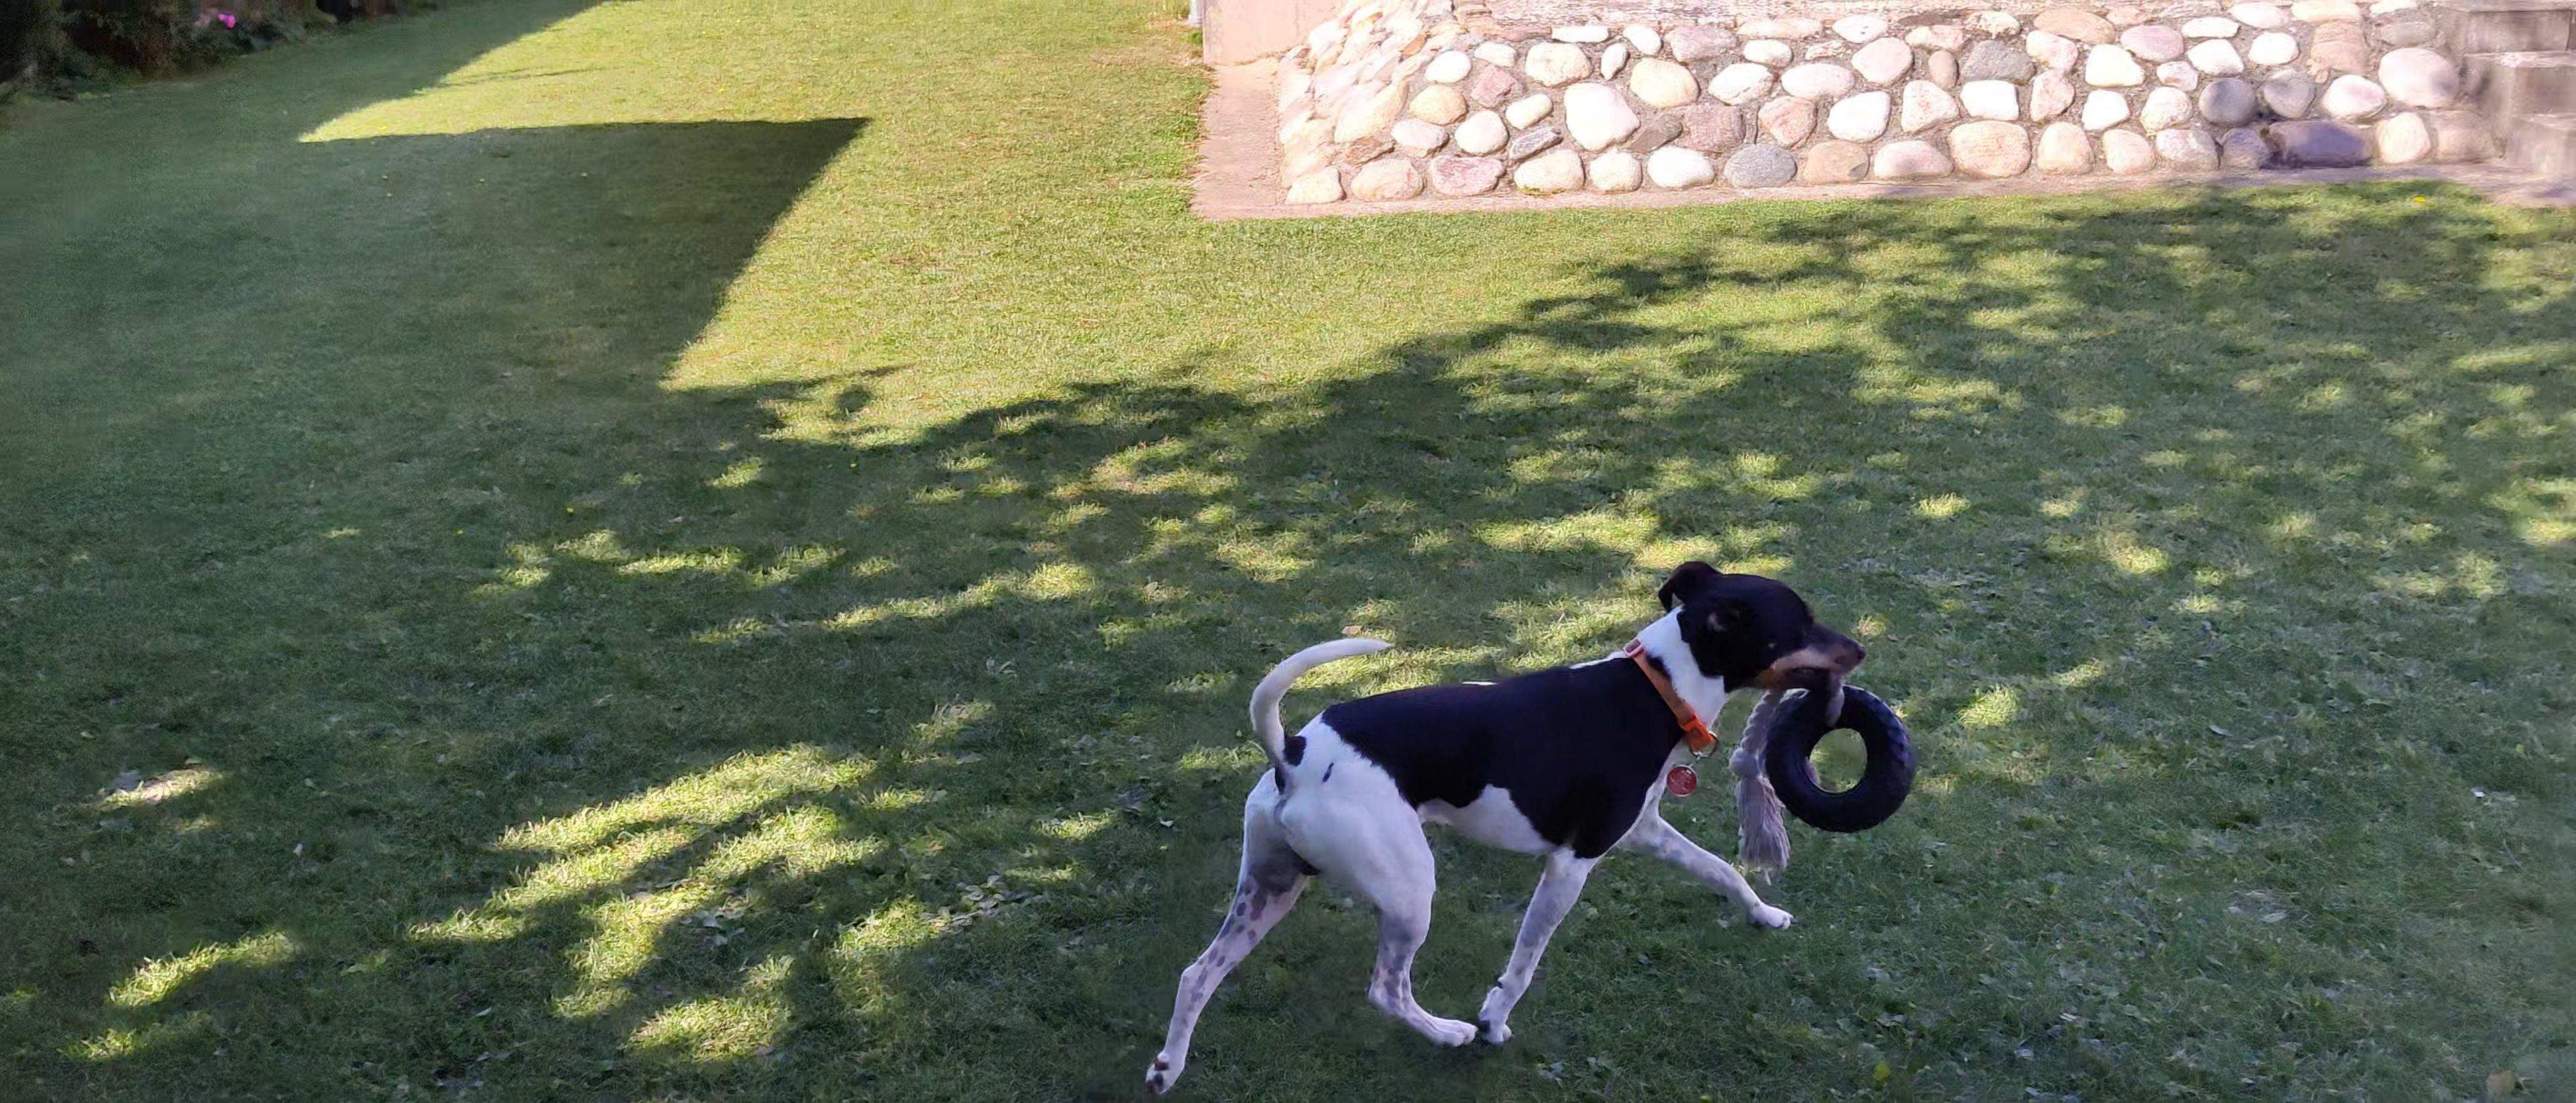Dog: (1107, 547, 1893, 1095)
